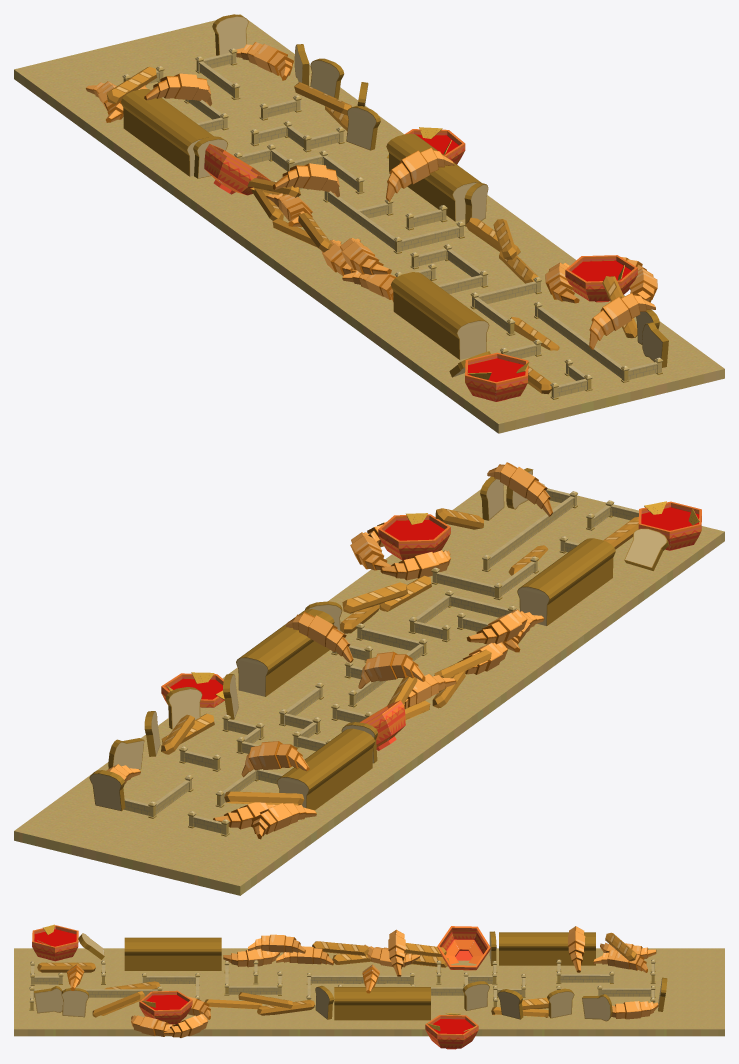
File: LV3_Jacky.fbx
3 renders of one model, top to bottom at view 1: azimuth 30°, elevation 25°; view 2: azimuth 150°, elevation 25°; view 3: azimuth 270°, elevation 25°, orthographic. The views are drawn at different scales.
Visible parts, largest first — view 1: Cube.025, Cube.010, Cube.023, Cube.002, Cylinder.012, Cylinder.003, Cylinder.020, Cylinder.021, Cylinder.002, Cylinder.023, Cylinder.022, Cube.013 (+15 smaller); view 2: Cube.025, Cube.010, Cube.023, Cube.002, Cylinder.002, Cylinder.023, Cylinder.022, Cylinder.020, Cylinder.021, Cube.031, Cylinder.011, Cylinder.018 (+16 smaller); view 3: Cube.025, Cube.010, Cube.002, Cube.023, Cylinder.012, Cylinder.014, Cylinder.002, Cylinder.003, Cylinder.009, Cylinder.008, Cylinder.007, Cylinder.019 (+45 smaller).
Boxes of the visible parts, bbox=[...] form: Cube.025: bbox=[14, 14, 724, 433]; Cube.010: bbox=[391, 272, 489, 359]; Cube.023: bbox=[121, 89, 213, 176]; Cube.002: bbox=[386, 133, 481, 221]; Cylinder.012: bbox=[204, 143, 270, 195]; Cylinder.003: bbox=[465, 352, 528, 401]; Cylinder.020: bbox=[589, 293, 655, 349]; Cylinder.021: bbox=[386, 147, 454, 201]; Cylinder.002: bbox=[565, 255, 637, 302]; Cylinder.023: bbox=[273, 163, 339, 197]; Cylinder.022: bbox=[144, 73, 211, 106]; Cube.013: bbox=[346, 105, 380, 150]; Cube.025: bbox=[14, 484, 724, 895]; Cube.010: bbox=[517, 538, 615, 625]; Cube.023: bbox=[276, 728, 375, 810]; Cube.002: bbox=[236, 609, 334, 696]; Cylinder.002: bbox=[378, 514, 450, 560]; Cylinder.023: bbox=[358, 651, 425, 688]; Cylinder.022: bbox=[241, 741, 309, 777]; Cylinder.020: bbox=[487, 462, 552, 516]; Cylinder.021: bbox=[286, 612, 353, 662]; Cube.031: bbox=[624, 528, 668, 570]; Cylinder.011: bbox=[380, 550, 450, 580]; Cylinder.018: bbox=[251, 803, 316, 839]; Cube.025: bbox=[14, 948, 724, 1036]; Cube.010: bbox=[124, 937, 221, 970]; Cube.002: bbox=[334, 987, 430, 1020]; Cube.023: bbox=[499, 932, 595, 965]; Cylinder.012: bbox=[437, 926, 490, 970]; Cylinder.014: bbox=[425, 1015, 478, 1049]; Cylinder.002: bbox=[139, 990, 192, 1024]; Cylinder.003: bbox=[32, 925, 78, 961]; Cylinder.009: bbox=[248, 934, 305, 953]; Cylinder.008: bbox=[223, 948, 280, 967]; Cylinder.007: bbox=[276, 946, 333, 965]; Cylinder.019: bbox=[611, 1001, 658, 1019].
Bounding box in the file's own units: 5741 × 1649 × 18241.
Materials: 29 (26 with a texture image).
